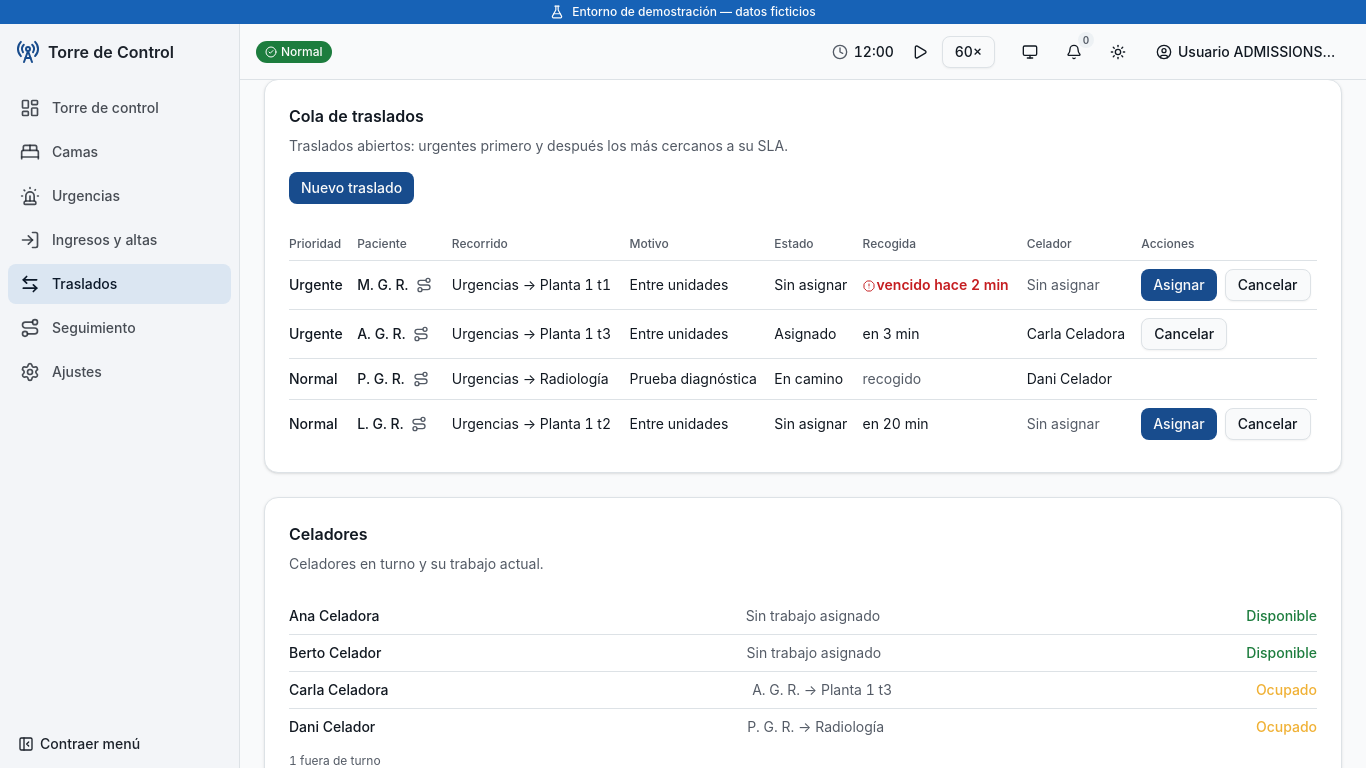
Test: Traslados: dispatch board › explains when the transfer changed under an open sheet
(page scrolled)
Expected: the table named "Cola de traslados" is shown, [289,228,1317,448]
Click the button with aria-label "Asignar:" at [1179, 424], box [1141,408,1217,440]
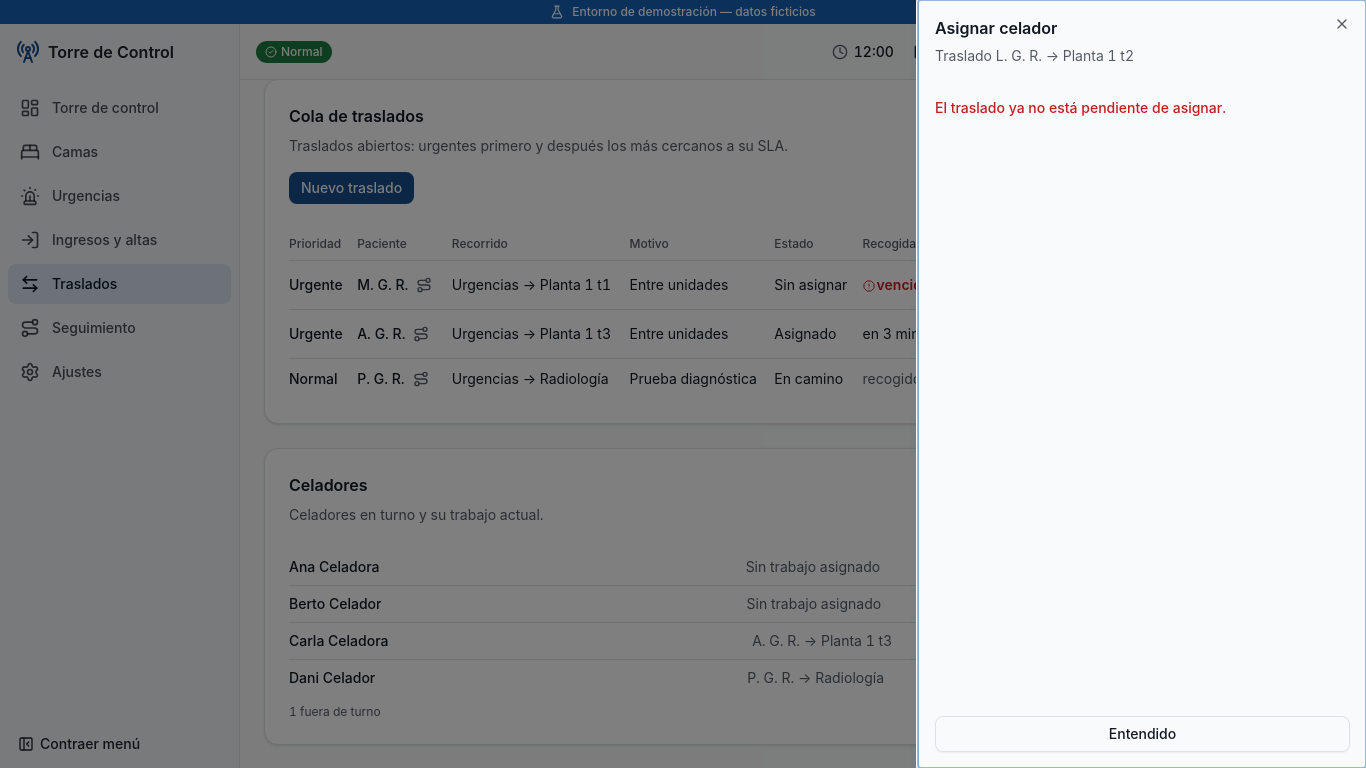
Result: the dialog "Asignar celador" is shown at [918,0,1365,767]
Result: the text "El traslado ya no está pendiente de asignar." is shown at [935,99,1226,116]
